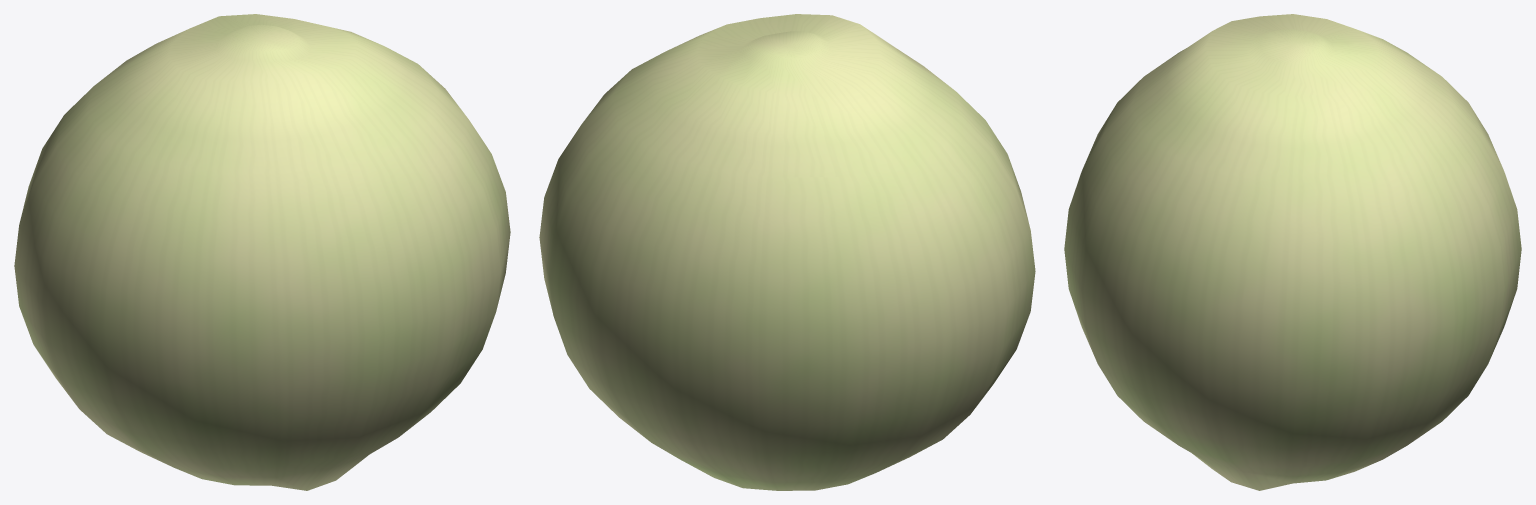
The model's file is WhiteOnion_Peeled.glb.
3 renders of one model, left to right at view 1: azimuth 30°, elevation 25°; view 2: azimuth 150°, elevation 25°; view 3: azimuth 270°, elevation 25°, orthographic. The views are drawn at different scales.
Parts seen in each view (by area): view 1: Sphere; view 2: Sphere; view 3: Sphere.
Part boxes in pixels (x1,y1,x2,y2): Sphere: [14, 14, 510, 490]; Sphere: [539, 14, 1035, 490]; Sphere: [1064, 14, 1521, 490].
Bounding box in the file's own units: 4.22 × 3.88 × 3.89.
1 material, 1 textured.
